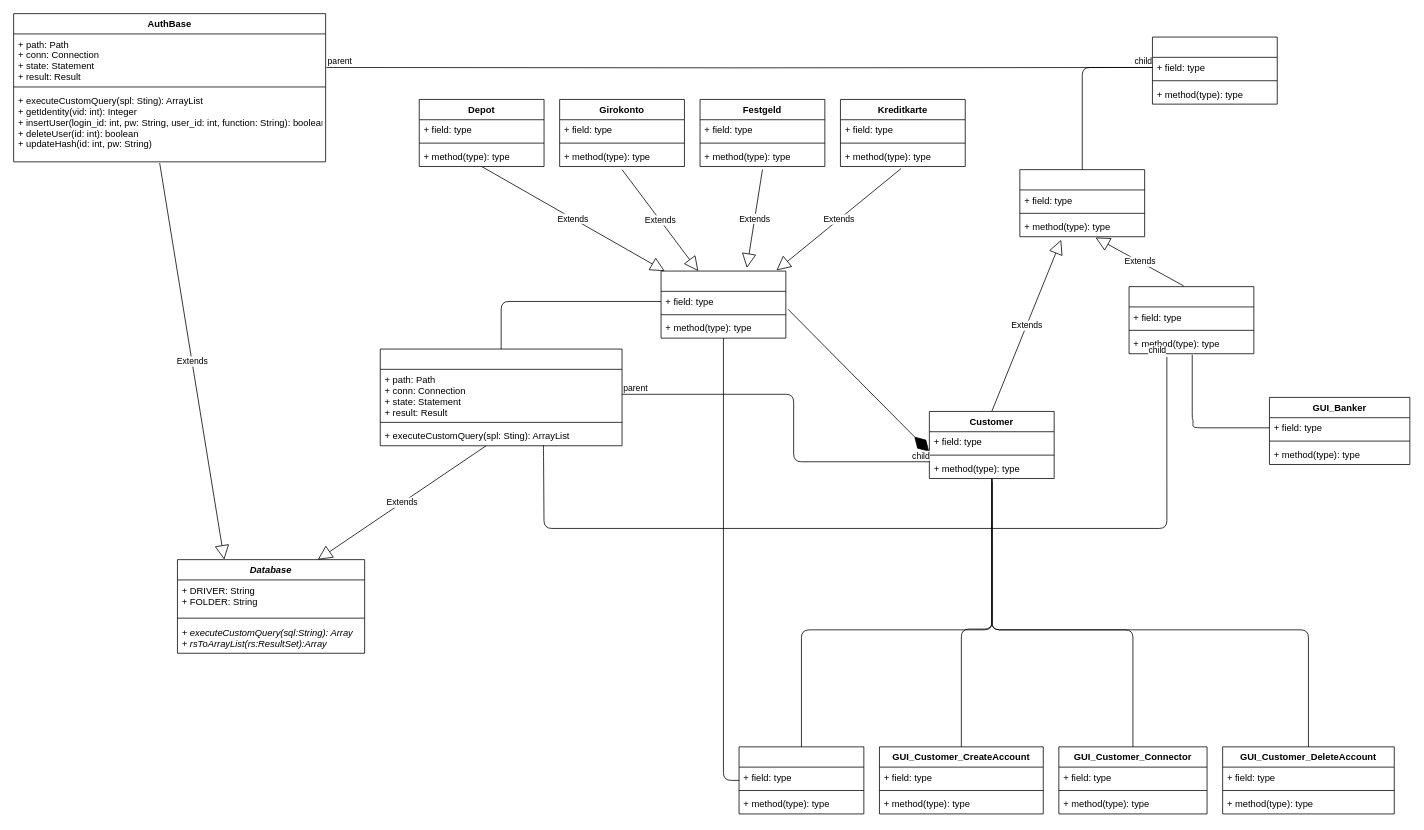
The diagram is 1424 pixels wide and 830 high, and some of its shapes have lost their labels. Each missing label, with the box of its shape:
Banker: (1128, 286, 1254, 354)
GUI_Customer: (738, 746, 864, 814)
Konto: (660, 270, 786, 338)
Login: (1152, 36, 1277, 104)
Person: (1019, 169, 1145, 237)
ProdBase: (379, 348, 622, 446)
